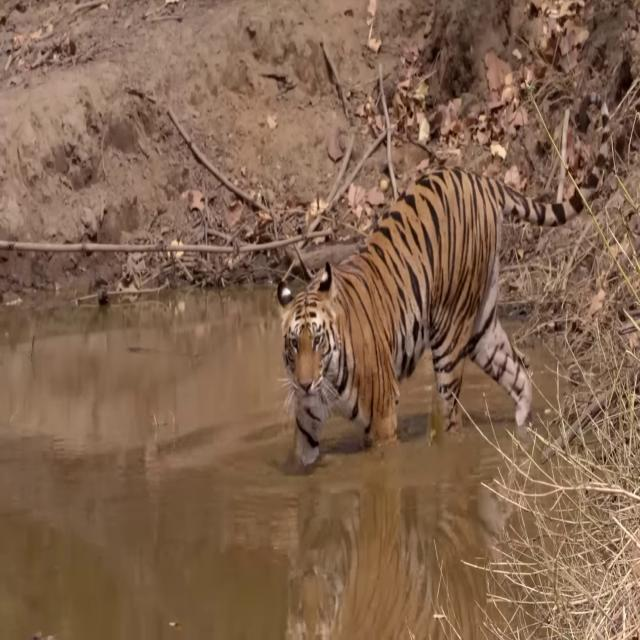tiger: (275, 92, 611, 465)
